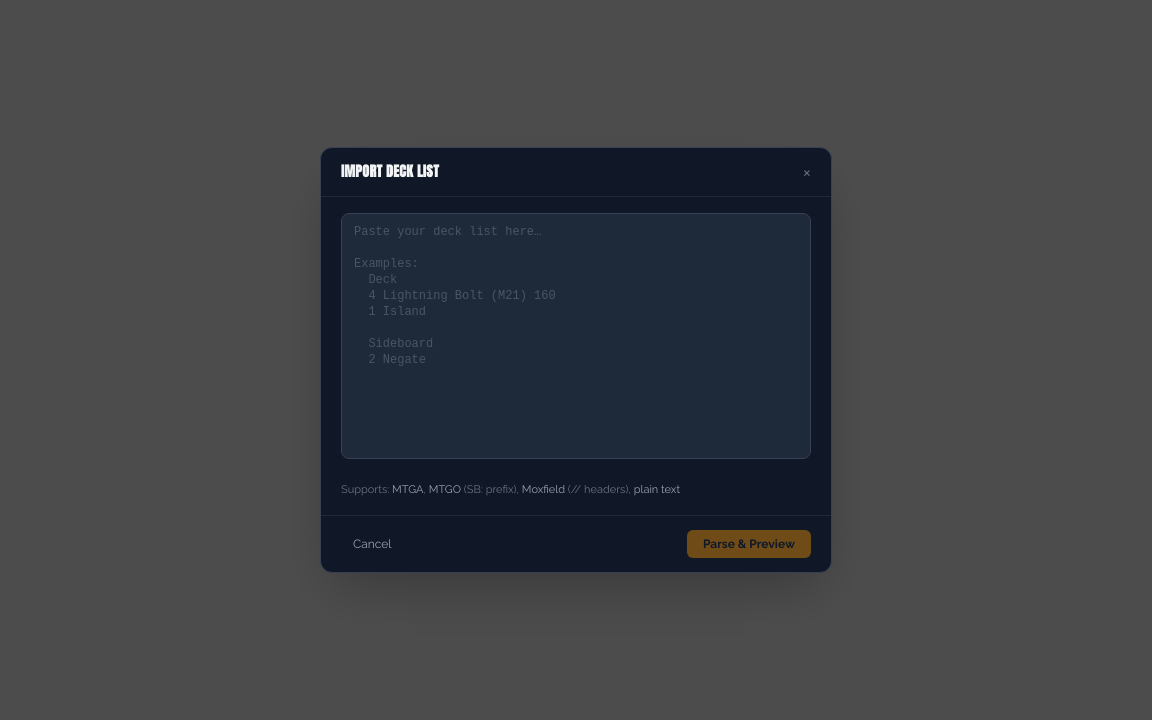
ImportDeckModal — fuzzy matches are shown, never silent › labels a fuzzy match and shows what it resolved to
This screenshot has width=1152, height=720.
Click the text box: (576, 336) 341,213 -> 811,459
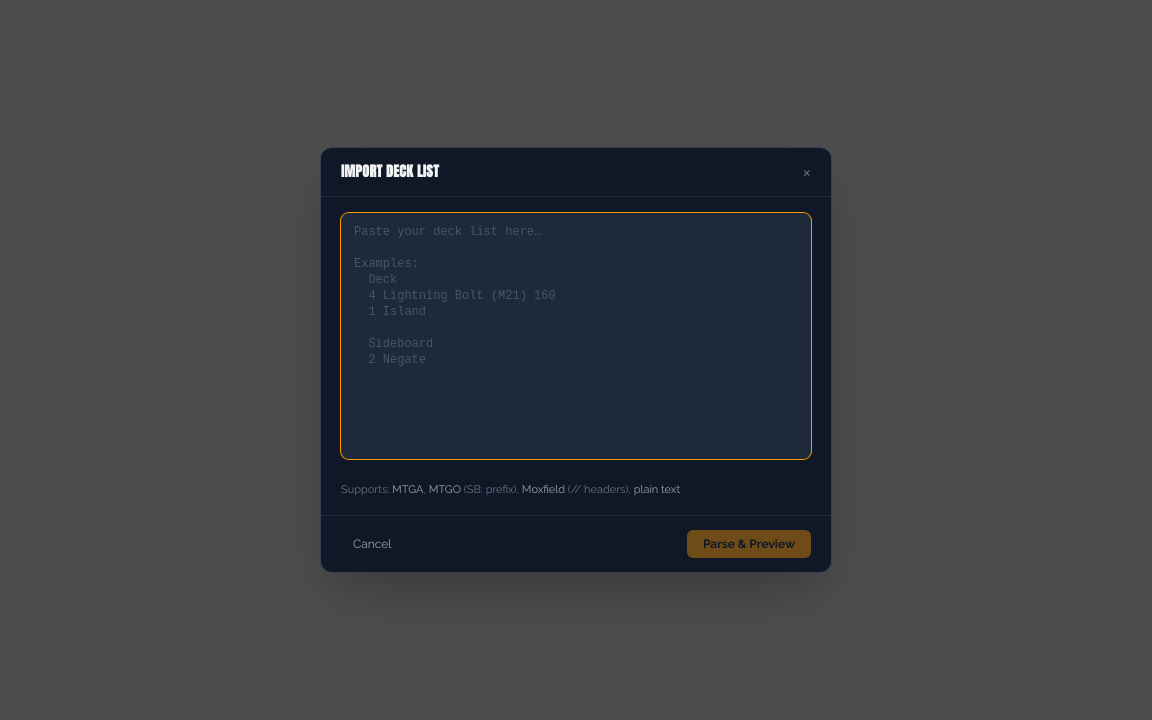
Type keys "1 Llanowar Elf"
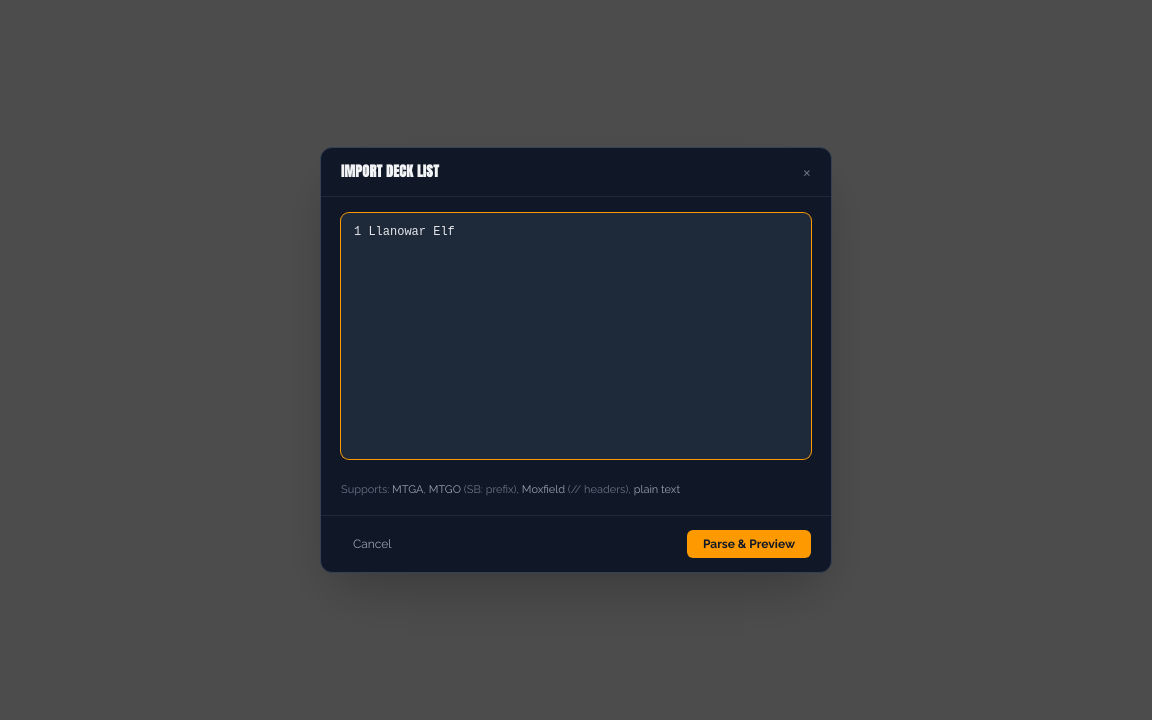
Click the button "Parse & Preview": (749, 544) 687,530 -> 811,558
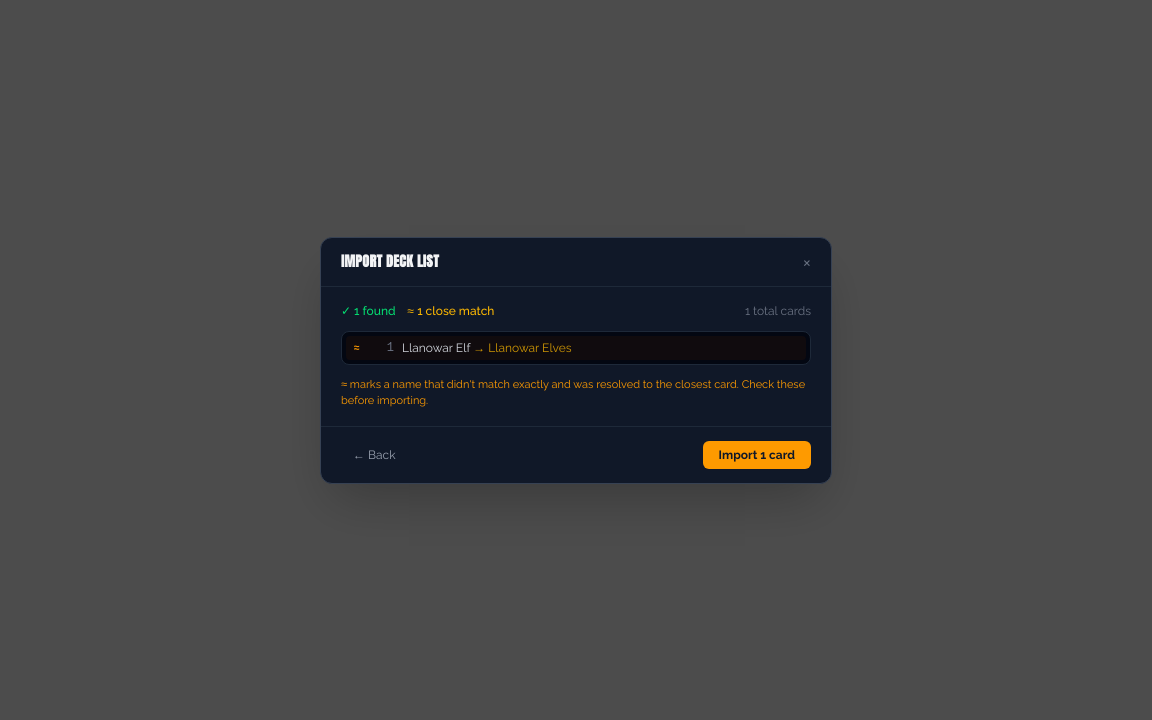
Expected: the text "≈ 1 close match" is shown, 408,302 -> 494,318
Expected: the text "→ Llanowar Elves" is shown, 470,340 -> 572,354
Expected: the text "check these before importing" is shown, 341,378 -> 805,407
